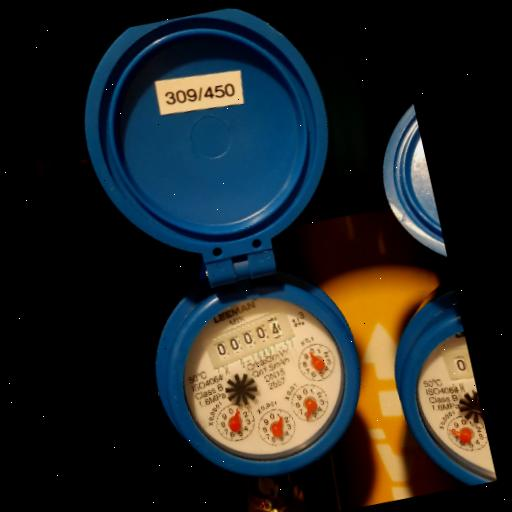0: (253, 322, 271, 346), (213, 339, 231, 361), (226, 333, 244, 355), (239, 328, 257, 350)
4: (266, 315, 285, 341)
border_water_meter_number: (198, 302, 300, 374)
